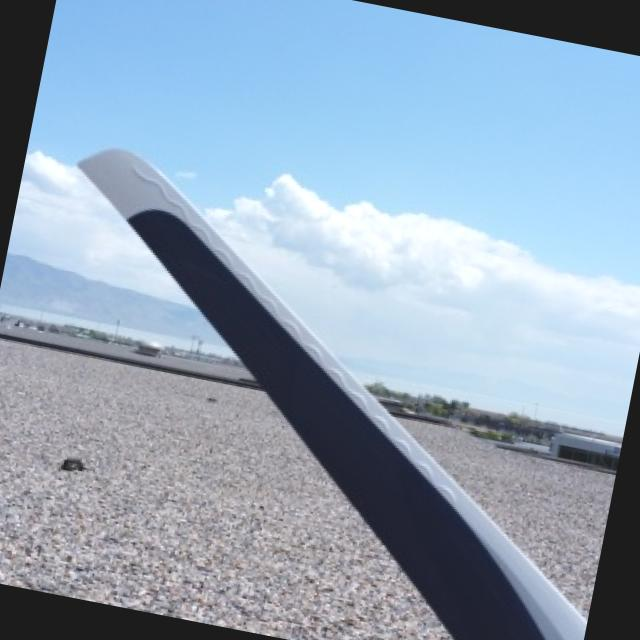healthy: (82, 148, 588, 640)
